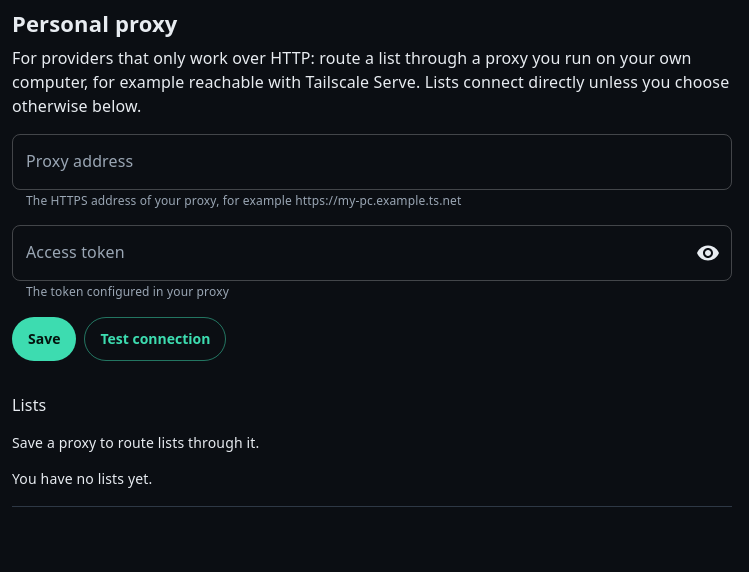
Test: ProxySection (PRX-01 AC1) › test outcome: wrong token (401)
Type "https://pc.example.test" into the field labelled "Proxy address" at (372, 162), box [12,134,732,190]
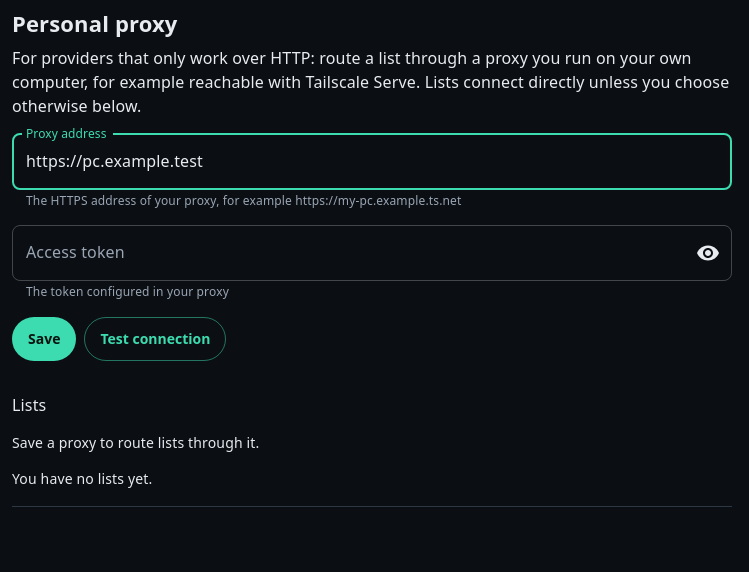
Type "tok_ABCDEFGHIJKLMNOPQRSTUVWXYZ-0123456789" into the password field labelled "Access token" at (345, 253), box [12,225,678,281]
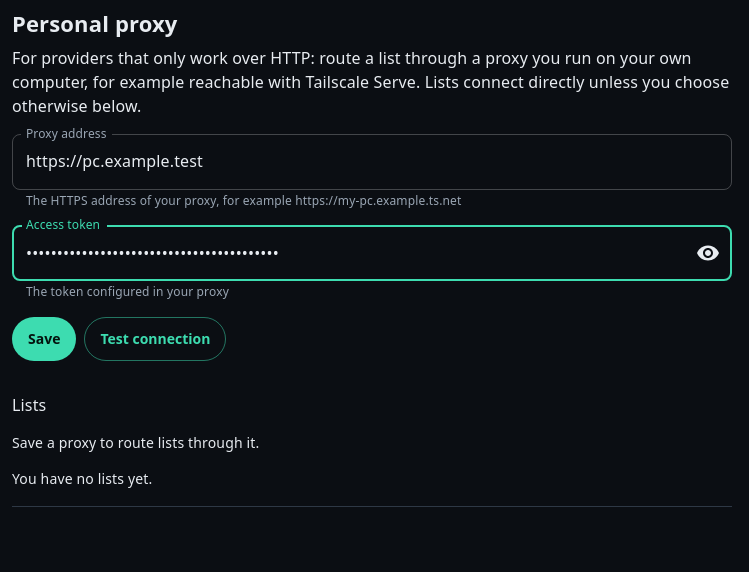
Click the button "Test connection" at (155, 339), box [84,317,226,361]
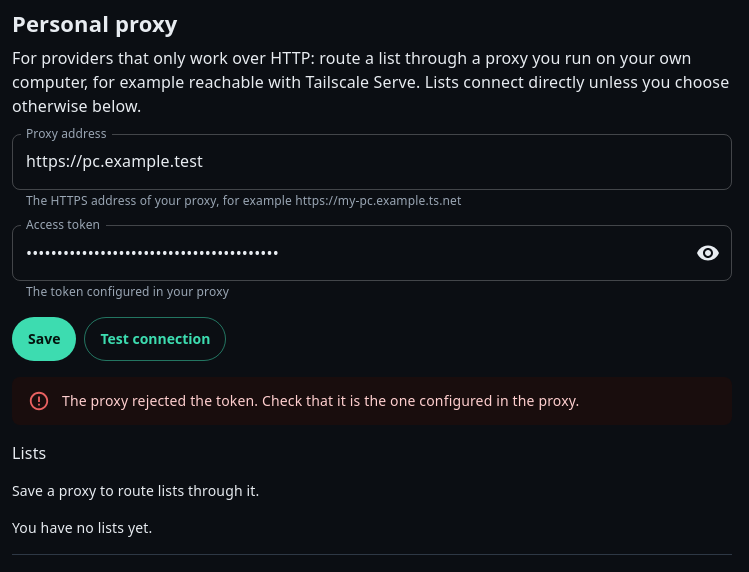
expect the element with test id "proxy-test-result" reads "The proxy rejected the token. Check that it is the one configured in the proxy.": met, box [62,391,579,410]
expect the message is shown: met, box [12,377,732,426]
